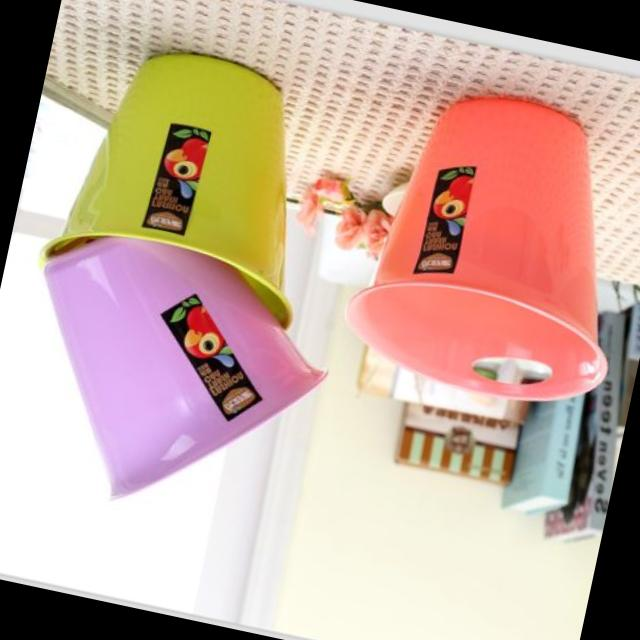dustbin: (0, 216, 349, 545), (328, 66, 640, 427), (32, 23, 350, 334)
